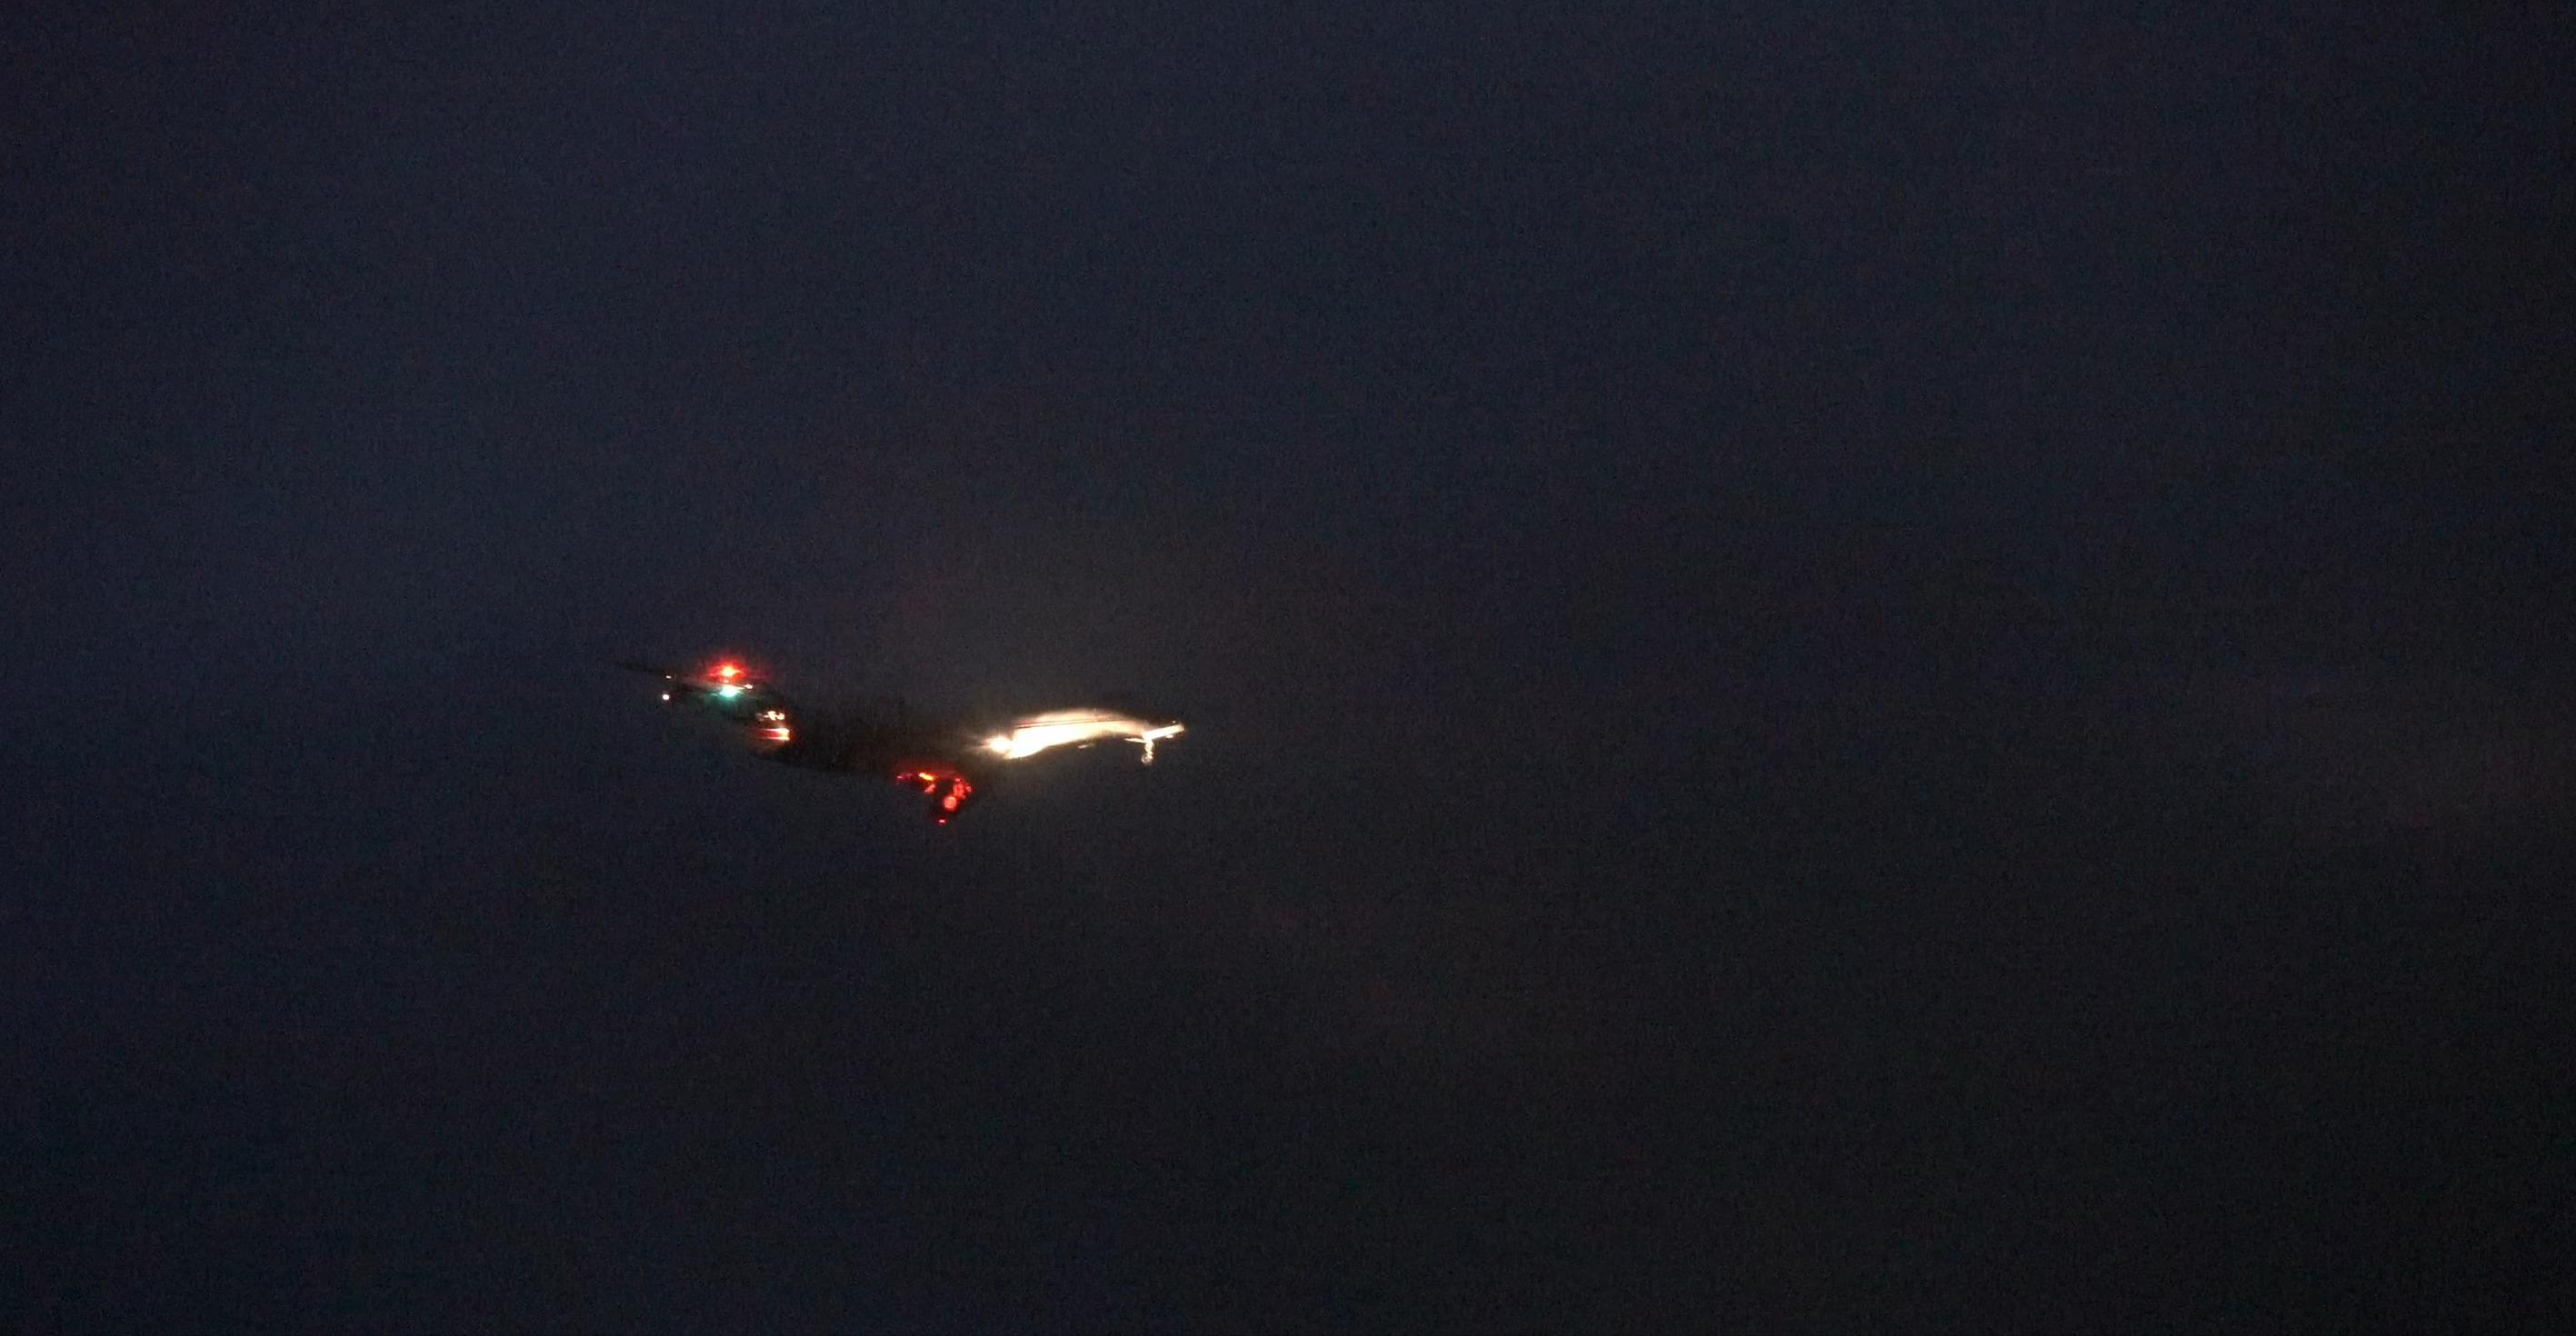Plane: (670, 642, 1162, 845)
